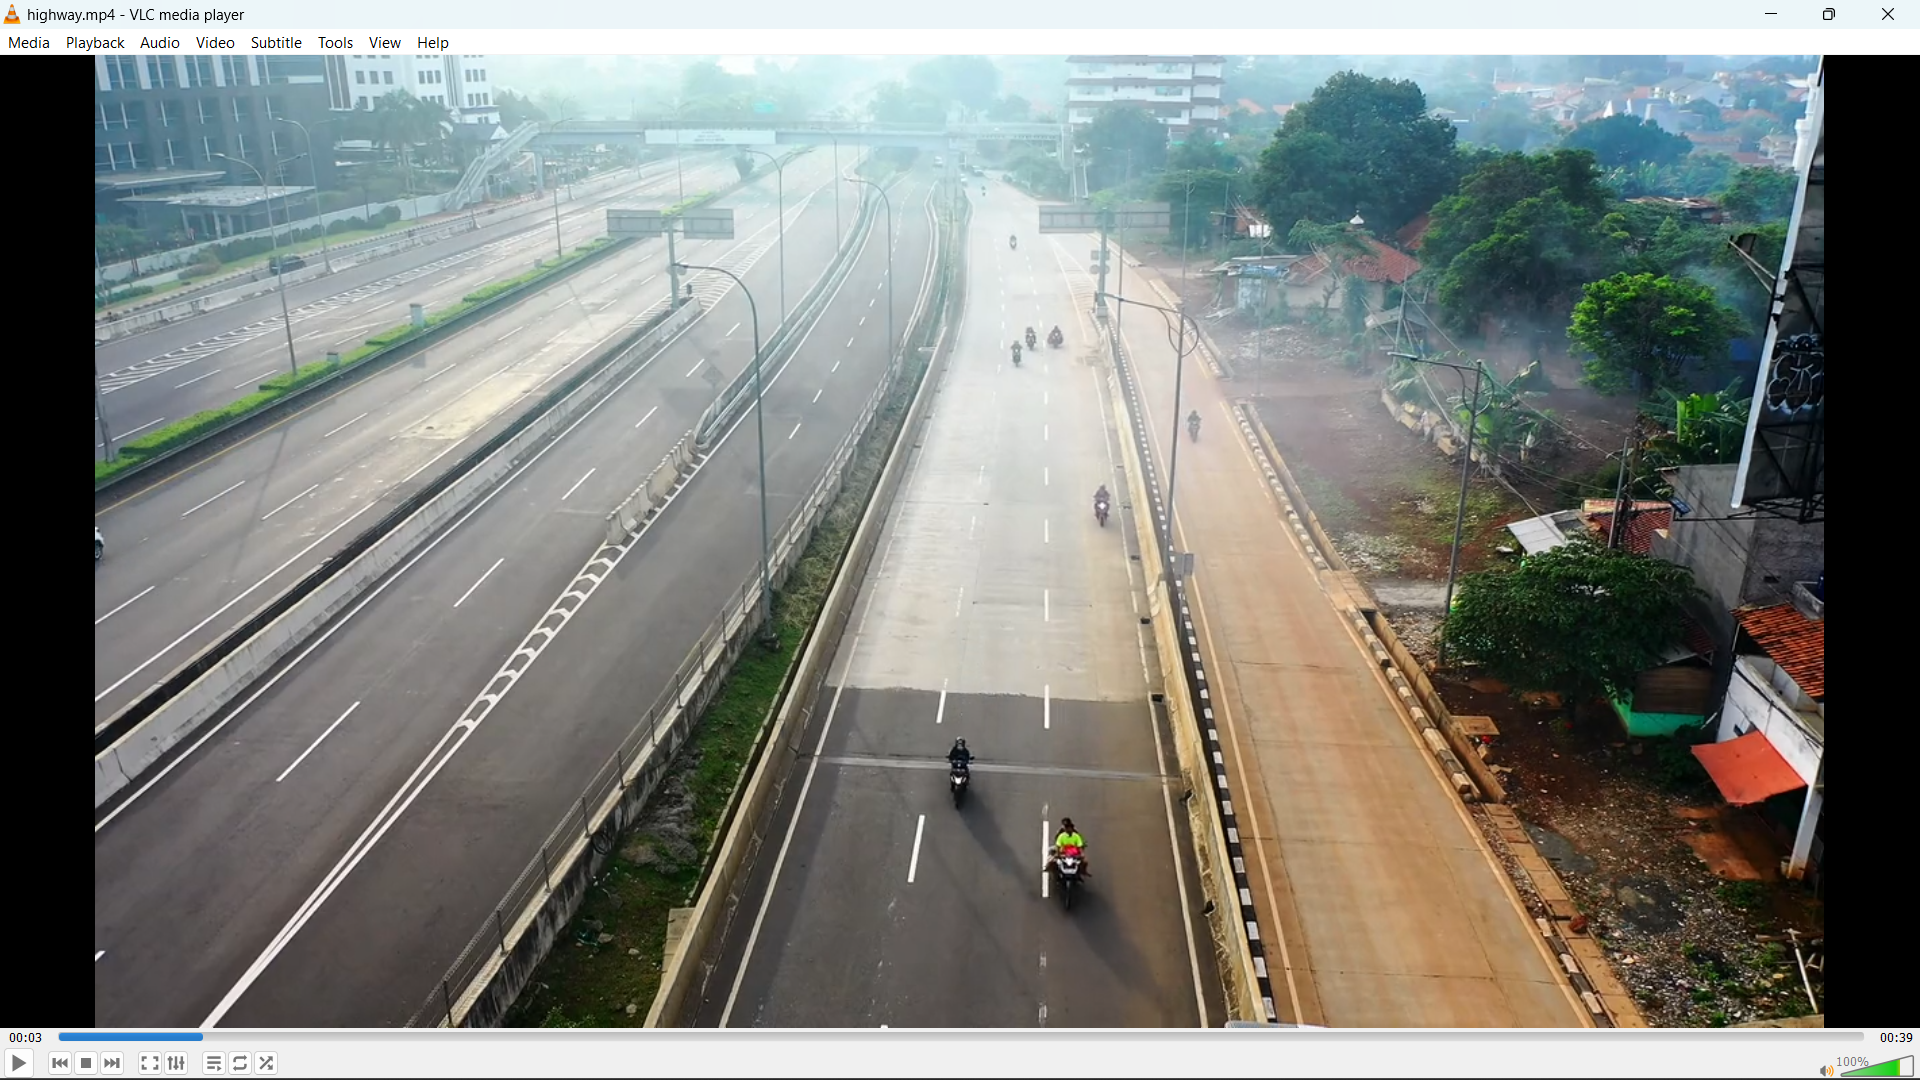MotorCycle: (1036, 804, 1095, 922), (939, 731, 977, 812), (1091, 479, 1116, 534)
